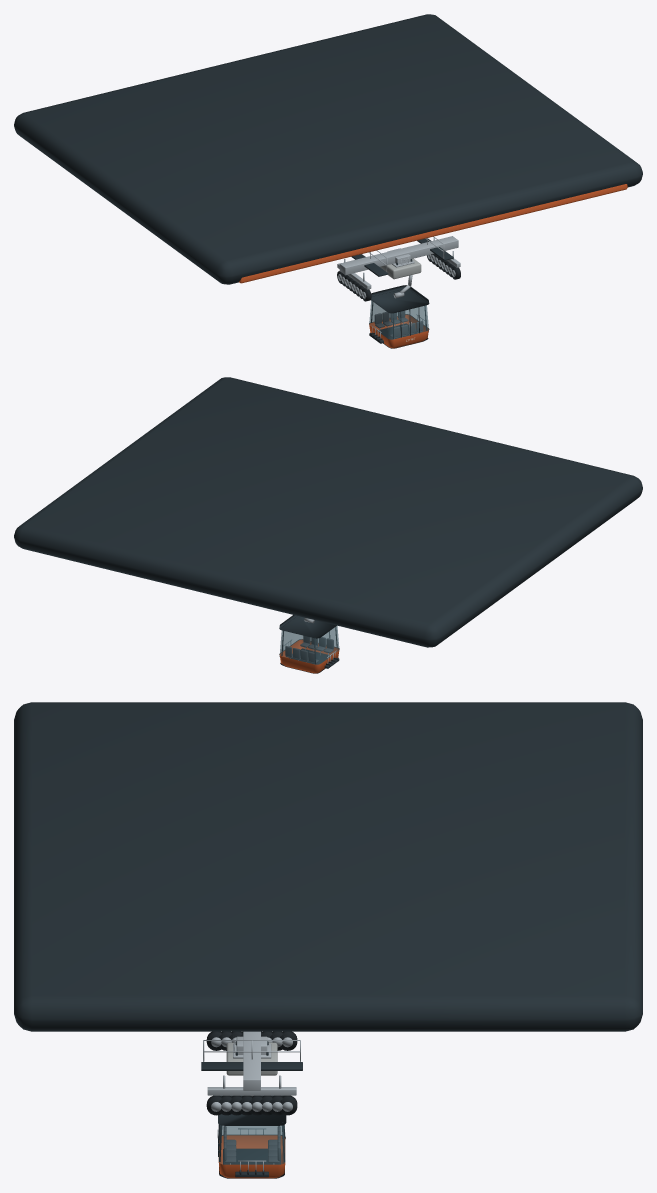
Rendered from lift-v1.glb.
3 views of the same model, one above another, from view 1: azimuth 30°, elevation 25°; view 2: azimuth 150°, elevation 25°; view 3: azimuth 270°, elevation 25° (orthographic). The views are drawn at different scales.
Parts seen in each view (by area): view 1: TerminalRoof__Graphite roof and frames, TerminalRoof__CORK7 burnt orange enamel, TowerHead__Galvanised lift hardware, Cabin__Graphite roof and frames, Cabin__Panoramic blue glazing, Cabin__Woven charcoal seats, Cabin__CORK7 burnt orange enamel, TowerHead__Sheave rubber and door seals; view 2: TerminalRoof__Graphite roof and frames, Cabin__Panoramic blue glazing, Cabin__Graphite roof and frames, Cabin__Woven charcoal seats, Cabin__CORK7 burnt orange enamel; view 3: TerminalRoof__Graphite roof and frames, TowerHead__Galvanised lift hardware, Cabin__Panoramic blue glazing, TowerHead__Sheave rubber and door seals, Cabin__Graphite roof and frames, Cabin__CORK7 burnt orange enamel, TowerHead__Graphite roof and frames, Cabin__Woven charcoal seats.
Part boxes in pixels (x1,y1,x2,y2): TerminalRoof__Graphite roof and frames: (14,14,642,284); TerminalRoof__CORK7 burnt orange enamel: (239,184,627,283); TowerHead__Galvanised lift hardware: (337,236,460,298); Cabin__Graphite roof and frames: (369,285,429,343); Cabin__Panoramic blue glazing: (369,300,428,339); Cabin__Woven charcoal seats: (374,310,423,338); Cabin__CORK7 burnt orange enamel: (369,314,428,348); TowerHead__Sheave rubber and door seals: (337,253,460,301); TerminalRoof__Graphite roof and frames: (14,377,642,647); Cabin__Panoramic blue glazing: (279,626,339,664); Cabin__Graphite roof and frames: (279,615,339,668); Cabin__Woven charcoal seats: (285,636,333,663); Cabin__CORK7 burnt orange enamel: (279,639,339,673); TerminalRoof__Graphite roof and frames: (14,702,642,1031); TowerHead__Galvanised lift hardware: (203,1031,300,1111); Cabin__Panoramic blue glazing: (219,1125,285,1164); TowerHead__Sheave rubber and door seals: (206,1031,297,1115); Cabin__Graphite roof and frames: (218,1095,286,1177); Cabin__CORK7 burnt orange enamel: (218,1135,285,1178); TowerHead__Graphite roof and frames: (201,1062,302,1070); Cabin__Woven charcoal seats: (223,1126,280,1163).
Bounding box in the file's own units: 28.5 × 12.31 × 24.7.
